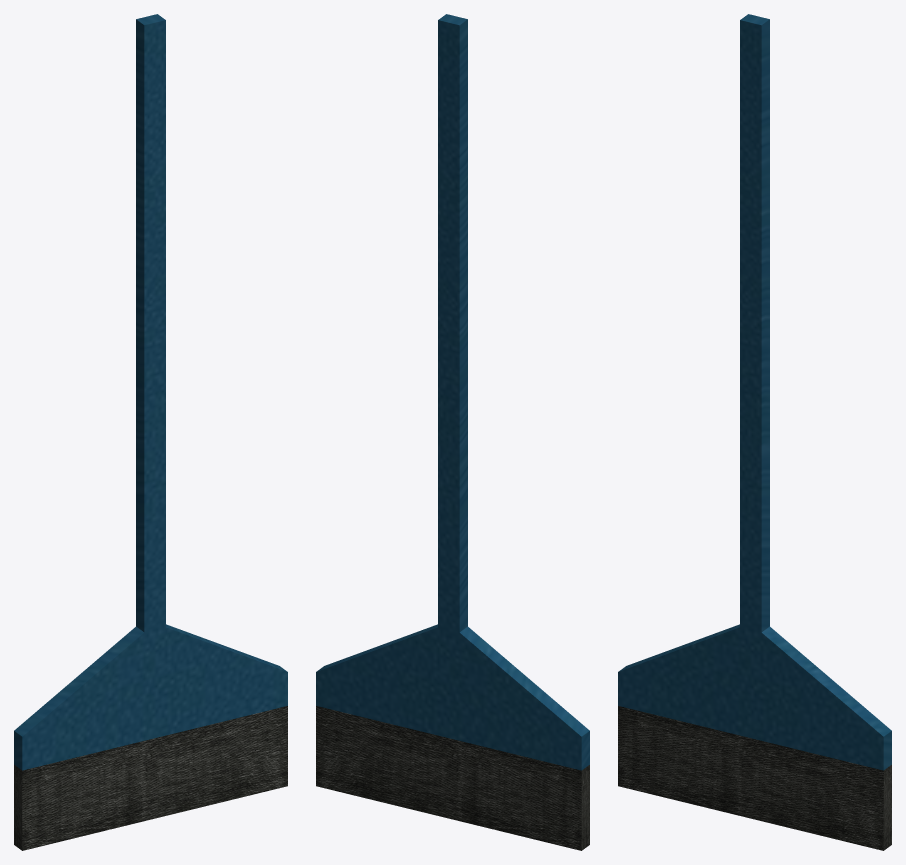
The model's file is envi5.fbx.
3 views of the same model, side by side, from view 1: azimuth 30°, elevation 25°; view 2: azimuth 150°, elevation 25°; view 3: azimuth 330°, elevation 25° (orthographic).
Parts seen in each view (by area): view 1: Cube; view 2: Cube; view 3: Cube.
Part boxes in pixels (x1,y1,x2,y2): Cube: (14,14,287,850); Cube: (316,14,589,850); Cube: (618,14,891,850).
Bounding box in the file's own units: 140 × 402 × 7.62.
Materials: 2 (2 with a texture image).
